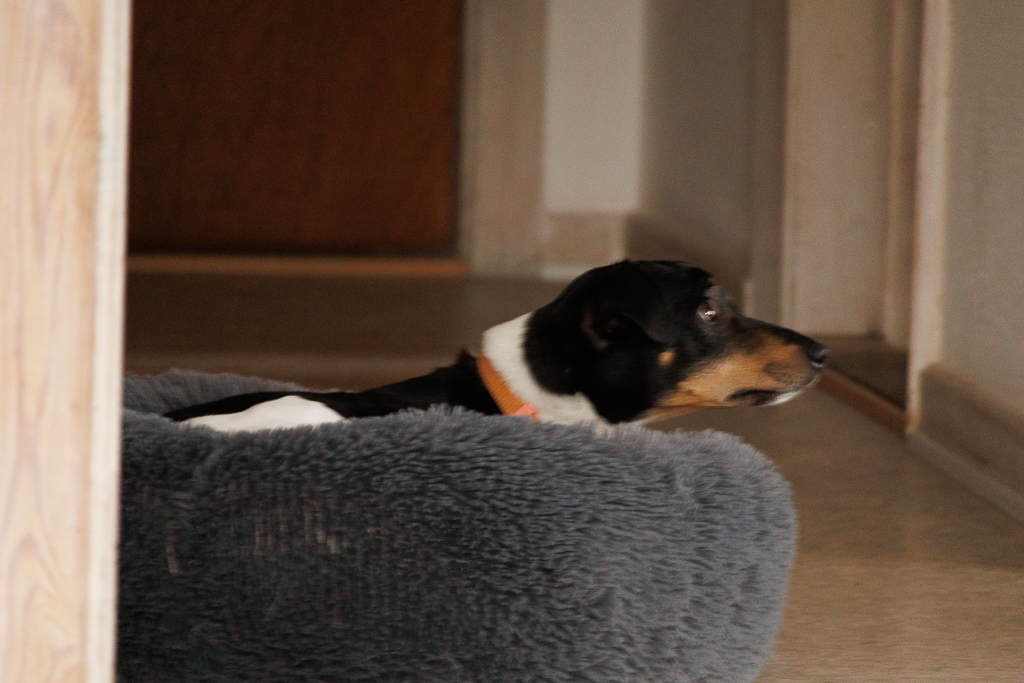Dog: (156, 249, 841, 472)
